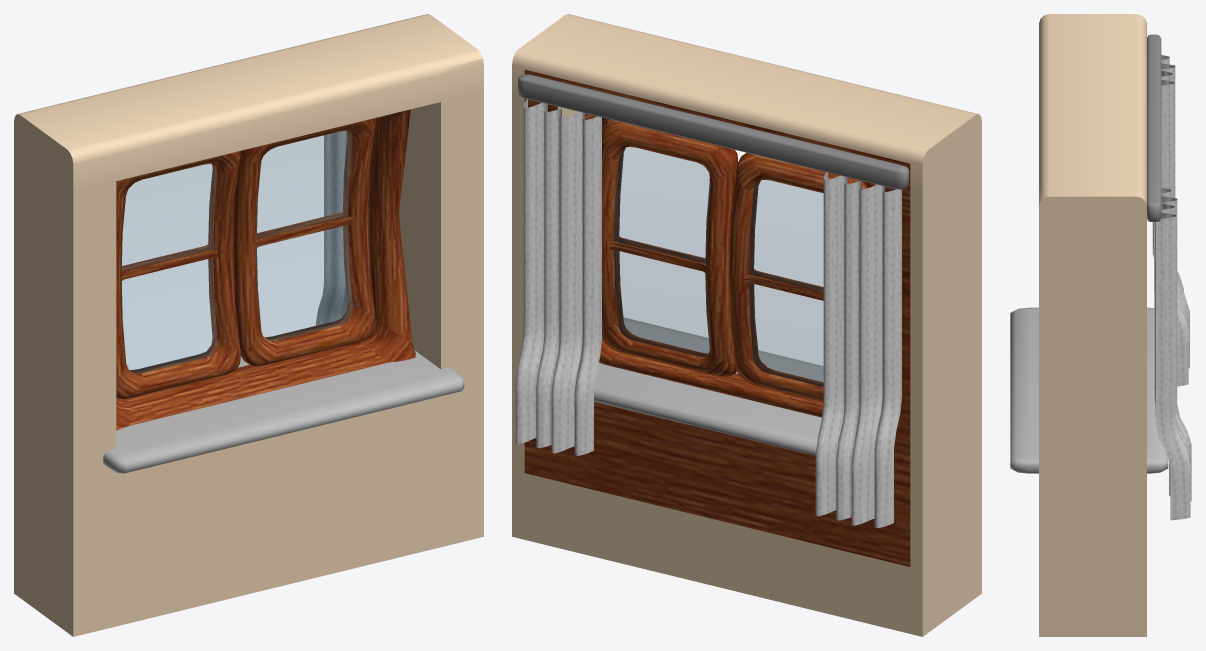
The model's file is Window_Wall_D.glb.
The picture shows the model from 3 angles, left to right: view 1: azimuth 30°, elevation 25°; view 2: azimuth 150°, elevation 25°; view 3: azimuth 270°, elevation 25°; orthographic projection. The views are drawn at different scales.
Visible parts, largest first — view 1: Cube.018, Torus.003, Torus.002, Torus, Cube.001, Grid; view 2: Cube.018, Cube.003, Torus.003, Grid, Grid.001, Torus.002, Cube.001, Cube.002, Torus; view 3: Cube.018, Grid, Cube.001, Grid.001, Cube.002.
Part boxes in pixels (bbox=[...]): Cube.018: bbox=[14, 14, 483, 636]; Torus.003: bbox=[233, 118, 375, 366]; Torus.002: bbox=[116, 151, 240, 398]; Torus: bbox=[116, 109, 415, 430]; Cube.001: bbox=[103, 350, 464, 473]; Grid: bbox=[316, 130, 347, 325]; Cube.018: bbox=[512, 14, 981, 636]; Cube.003: bbox=[524, 69, 910, 566]; Torus.003: bbox=[602, 120, 737, 376]; Grid: bbox=[515, 99, 601, 455]; Grid.001: bbox=[815, 172, 901, 527]; Torus.002: bbox=[729, 152, 867, 402]; Cube.001: bbox=[594, 317, 823, 455]; Cube.002: bbox=[518, 74, 908, 189]; Torus: bbox=[585, 113, 876, 417]; Cube.018: bbox=[1039, 14, 1146, 636]; Grid: bbox=[1154, 188, 1191, 520]; Cube.001: bbox=[1010, 307, 1168, 473]; Grid.001: bbox=[1152, 55, 1189, 386]; Cube.002: bbox=[1147, 34, 1161, 221].
Size of the model in its own units: 2 by 2.25 by 0.8401.
Materials: 4 (4 with a texture image).
